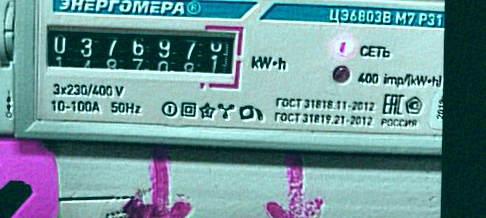0: (52, 33, 67, 55)
1: (209, 54, 220, 74)
3: (80, 38, 95, 59)
6: (131, 35, 147, 58)
7: (105, 35, 121, 59), (183, 39, 199, 62)
9: (157, 37, 172, 59)
screen: (38, 13, 248, 93)
